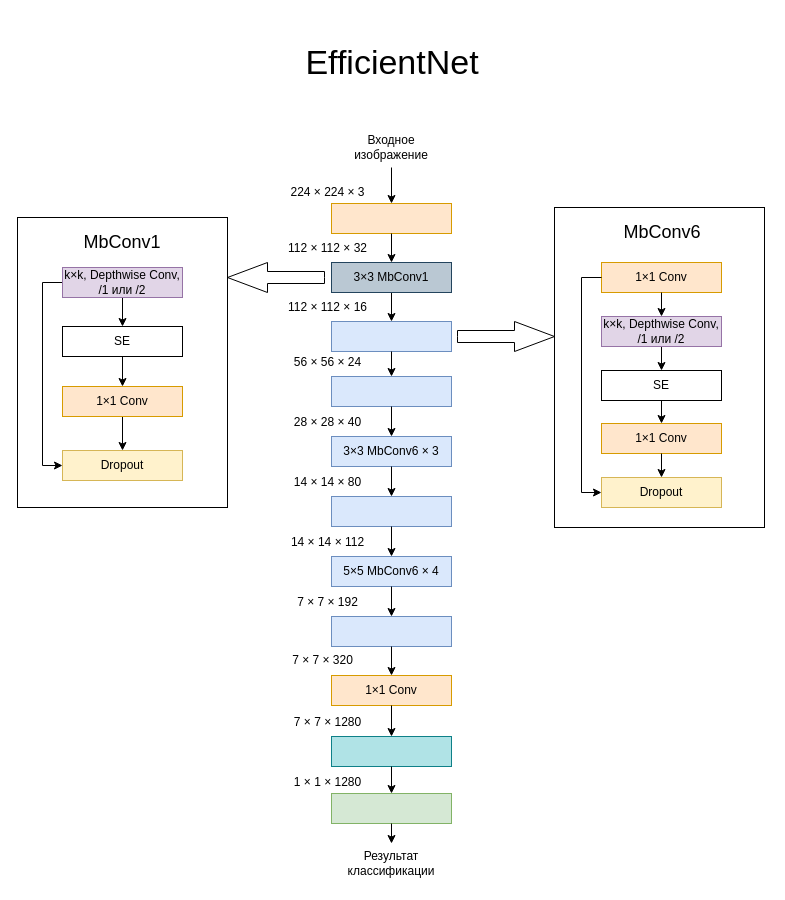
The diagram is 785 pixels wide and 900 high, and some of its shapes have lost their labels. Here are the shapes that lost their labels. From the top down, the centre of each, then its label:
At (x=391, y=218): "3 × 3 Conv".
At (x=391, y=336): "3 × 3 MbConv6 × 2".
At (x=391, y=391): "5 × 5 MbConv6 × 2".
At (x=391, y=511): "5 × 5 MbConv6 × 3".
At (x=391, y=631): "3 × 3 MbConv6 × 1".
At (x=391, y=751): "Avg Pool".
At (x=391, y=808): "FC 1000".
